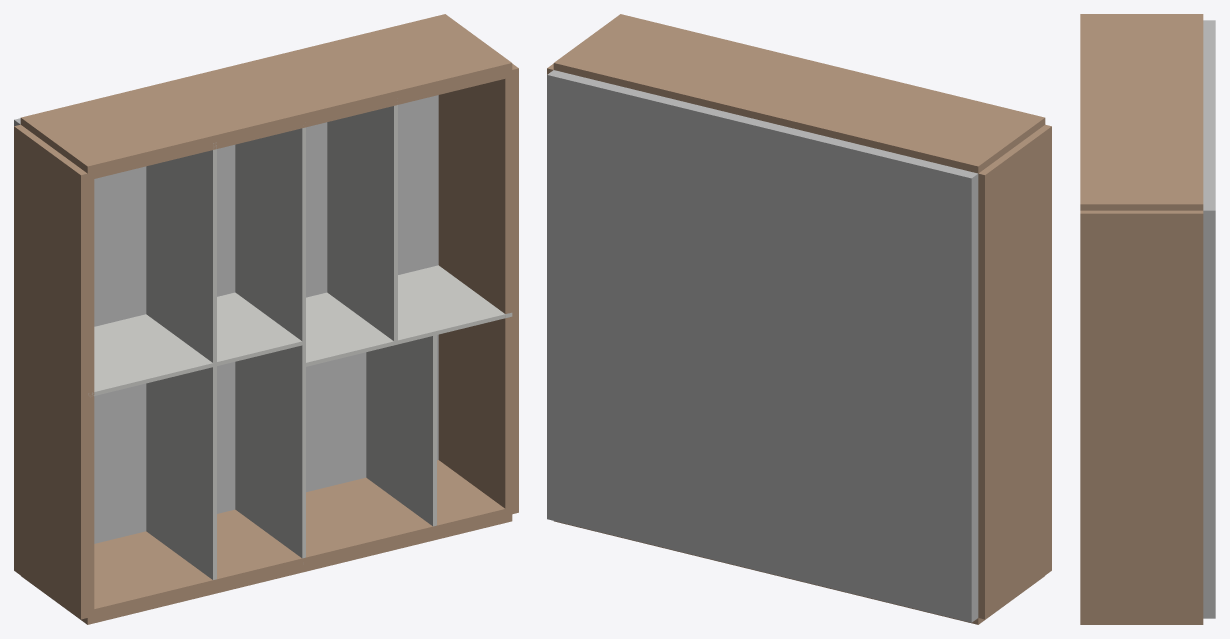
3 renders of one model, left to right at view 1: azimuth 30°, elevation 25°; view 2: azimuth 150°, elevation 25°; view 3: azimuth 270°, elevation 25°, orthographic. The views are drawn at different scales.
Parts seen in each view (by area): view 1: floor_slab, wall_3, wall_2, wall_1, wall_0, wall_5, wall_8, wall_11, wall_7, wall_10, wall_9, wall_13 (+3 smaller); view 2: floor_slab, wall_3, wall_2; view 3: wall_1, wall_2, floor_slab, wall_0.
Part boxes in pixels (x1,y1,x2,y2): floor_slab: [14, 95, 438, 543]; wall_3: [14, 124, 94, 619]; wall_2: [20, 14, 512, 180]; wall_1: [438, 64, 518, 515]; wall_0: [21, 460, 512, 624]; wall_5: [327, 105, 397, 343]; wall_8: [146, 142, 216, 364]; wall_11: [146, 365, 216, 579]; wall_7: [235, 127, 305, 342]; wall_10: [235, 342, 305, 558]; wall_9: [366, 333, 436, 526]; wall_13: [88, 314, 214, 395]; floor_slab: [547, 70, 978, 622]; wall_3: [978, 124, 1051, 619]; wall_2: [553, 14, 1045, 173]; wall_1: [1080, 210, 1203, 621]; wall_2: [1080, 14, 1203, 210]; floor_slab: [1203, 20, 1215, 618]; wall_0: [1080, 621, 1203, 624].
Bounding box in the file's own units: 11.35 × 11.35 × 3.3.
